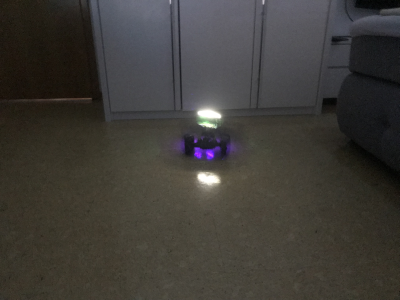remote control car: (176, 106, 232, 158)
